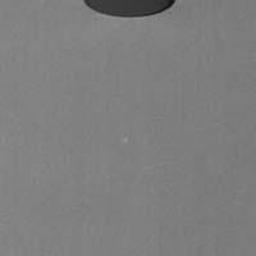Punching: (83, 0, 177, 20)
